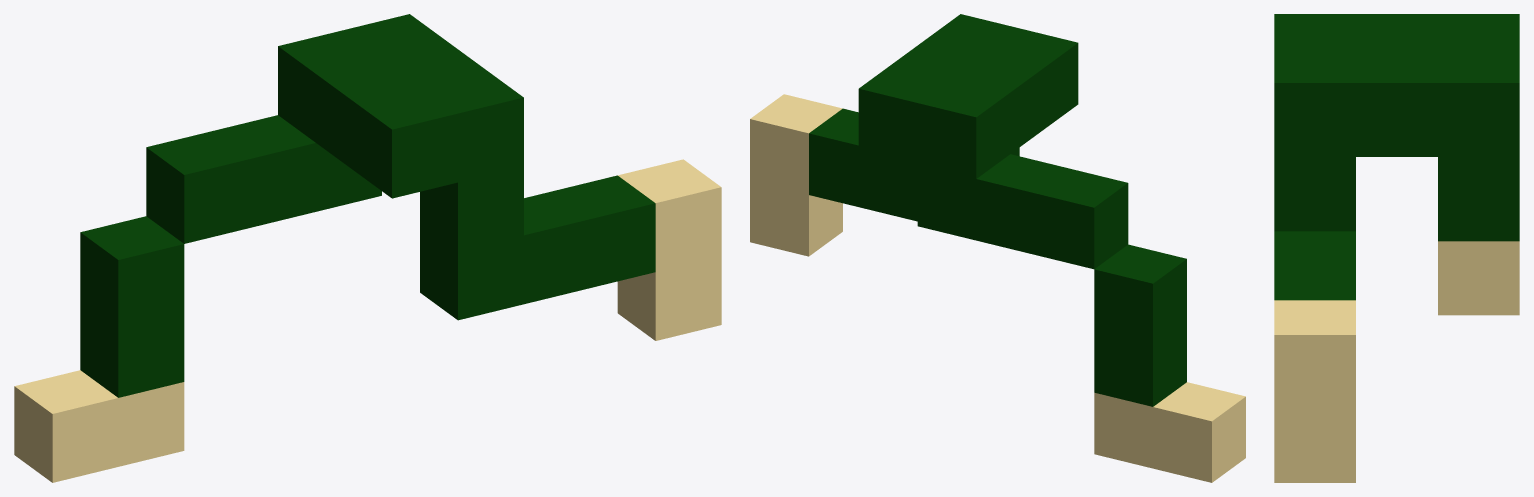
Rendered from woman-2-torso_walk.obj.
The picture shows the model from 3 angles, left to right: view 1: azimuth 30°, elevation 25°; view 2: azimuth 150°, elevation 25°; view 3: azimuth 270°, elevation 25°; orthographic projection. The views are drawn at different scales.
Visible parts, largest first — view 1: torso_walk; view 2: torso_walk; view 3: torso_walk.
Boxes of the visible parts, x1,y1,x2,y2 form: torso_walk: (14,14,721,482); torso_walk: (750,14,1245,482); torso_walk: (1274,14,1519,482).
Size of the model in its own units: 0.9 by 0.5 by 0.3.
1 material, 1 textured.
